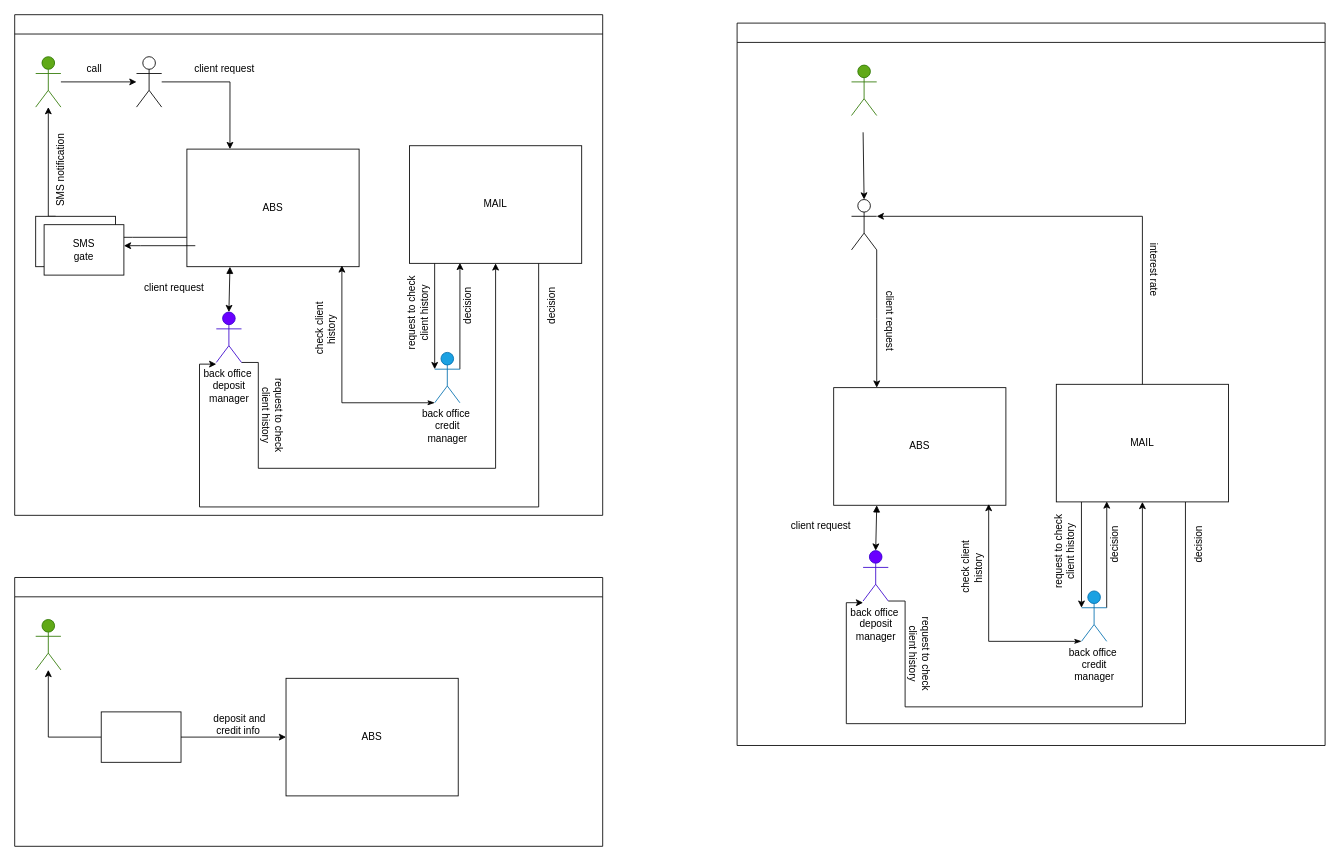
The diagram is 1340 pixels wide and 861 high, and some of its shapes have lost their labels. Here are the shapes that lost their labels. From the top down, the box of each, then its label:
(136, 56, 162, 107): call-center operator
(851, 199, 877, 250): offline office manger
(14, 14, 603, 515): case client call before office
(736, 22, 1325, 746): case client don't call before office
(14, 577, 603, 846): case client use internet bank
(100, 711, 181, 762): Internet bank
